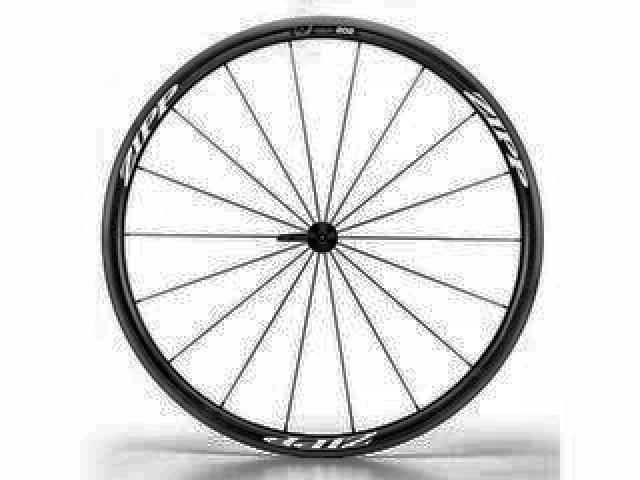wheel: (94, 14, 553, 469)
